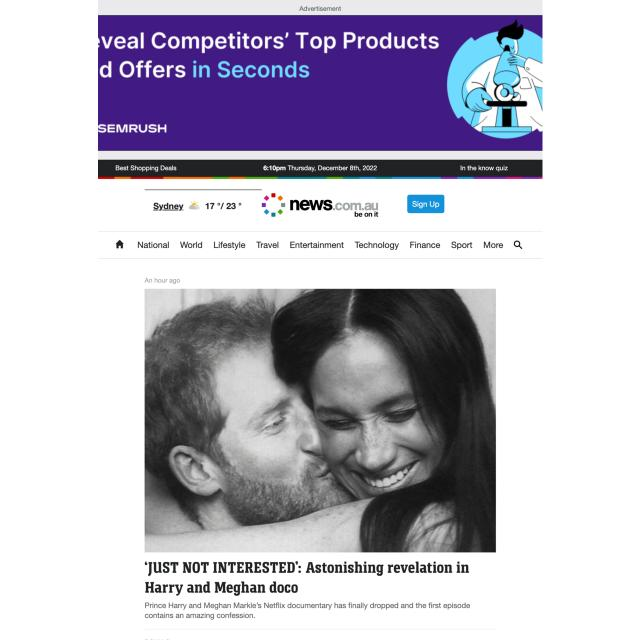CheckBox: (406, 193, 446, 215), (152, 200, 186, 213)
Input field: (142, 600, 476, 622)
accordion: (93, 254, 544, 261), (144, 625, 499, 632), (97, 229, 545, 234)
bag: (98, 180, 546, 270)
breadcrumbs: (143, 558, 476, 600)
carousel: (511, 238, 526, 254), (112, 238, 126, 252)
content: (188, 200, 202, 212)
copy: (143, 286, 496, 553)
data feed: (412, 198, 442, 210)
date picker: (260, 191, 384, 222)
decoration: (103, 236, 532, 254)
